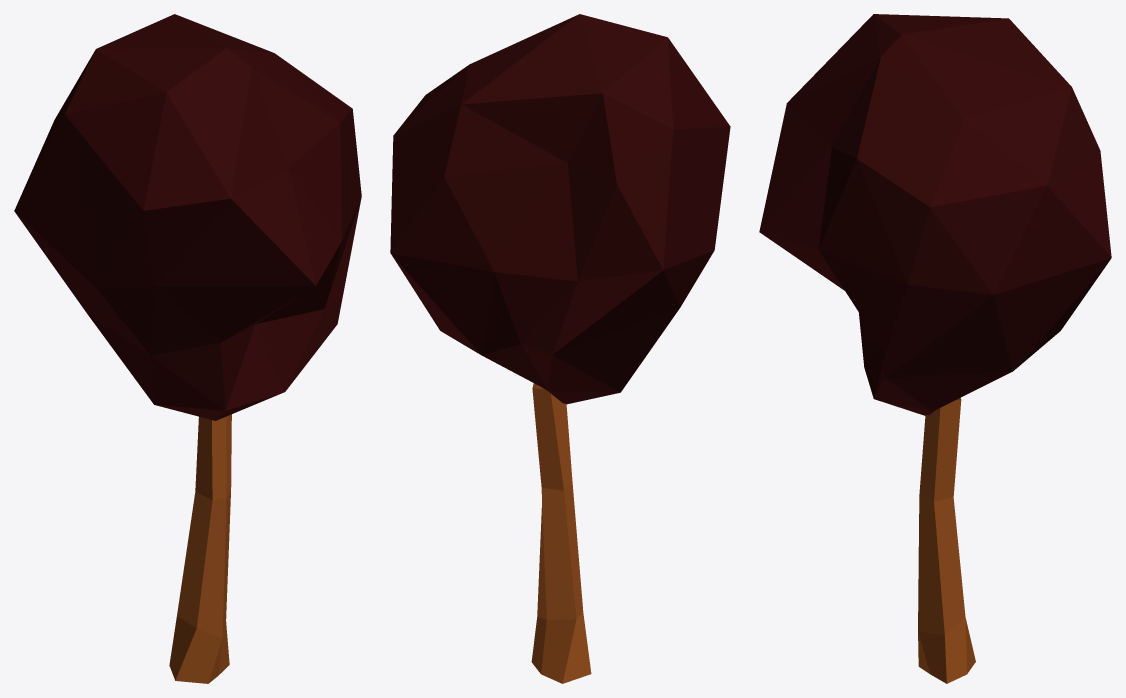
Rendered from Tree02.FBX.
3 renders of one model, left to right at view 1: azimuth 30°, elevation 25°; view 2: azimuth 150°, elevation 25°; view 3: azimuth 270°, elevation 25°, orthographic.
Visible parts, largest first — view 1: Tree001; view 2: Tree001; view 3: Tree001.
Boxes of the visible parts, left/top/right/bottom form: Tree001: left=14, top=14, right=361, bottom=683; Tree001: left=390, top=14, right=730, bottom=683; Tree001: left=759, top=14, right=1111, bottom=683.
Size of the model in its own units: 272 by 576 by 289.
